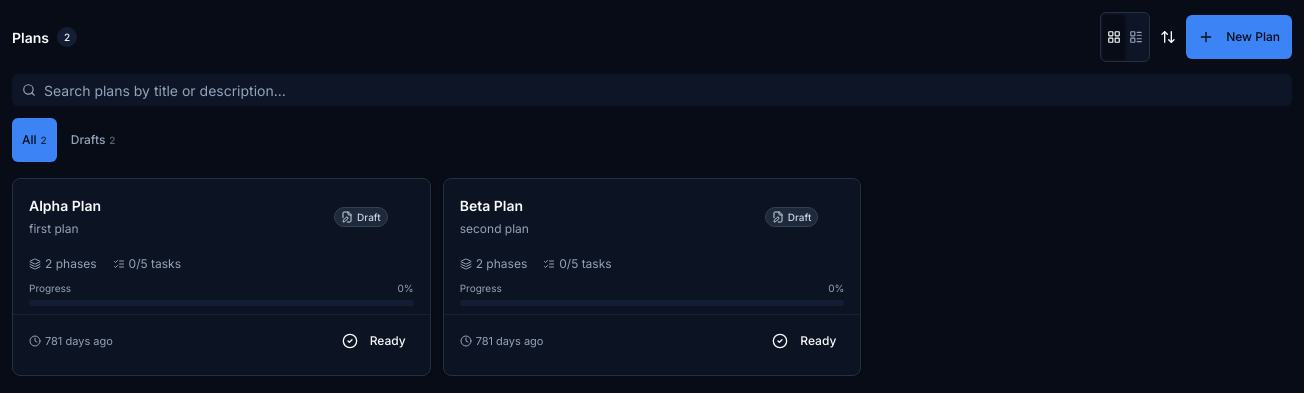
Test: PlanList › should filter plans by search query
Type "Alpha" into the field with placeholder "Search plans by title or description..." at (652, 90), box 12,74 -> 1292,106
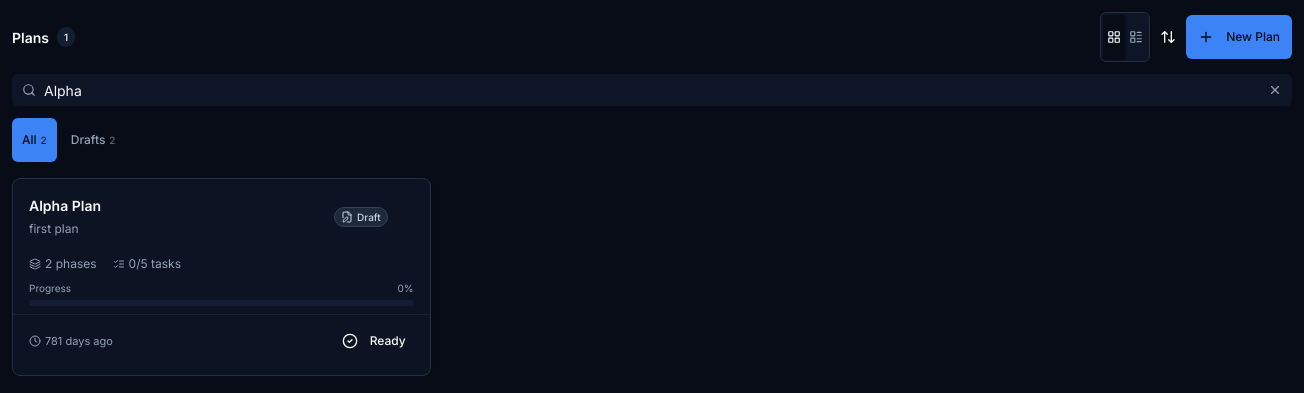
Expected: the heading "Alpha Plan" is shown, 29,197 -> 101,214
Expected: the heading "Beta Plan" is gone
